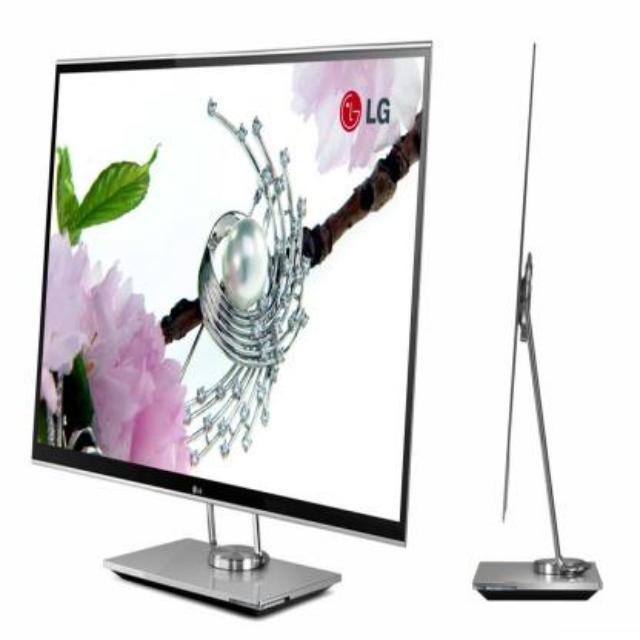Flat-Panel-Monitor: (31, 45, 427, 613)
